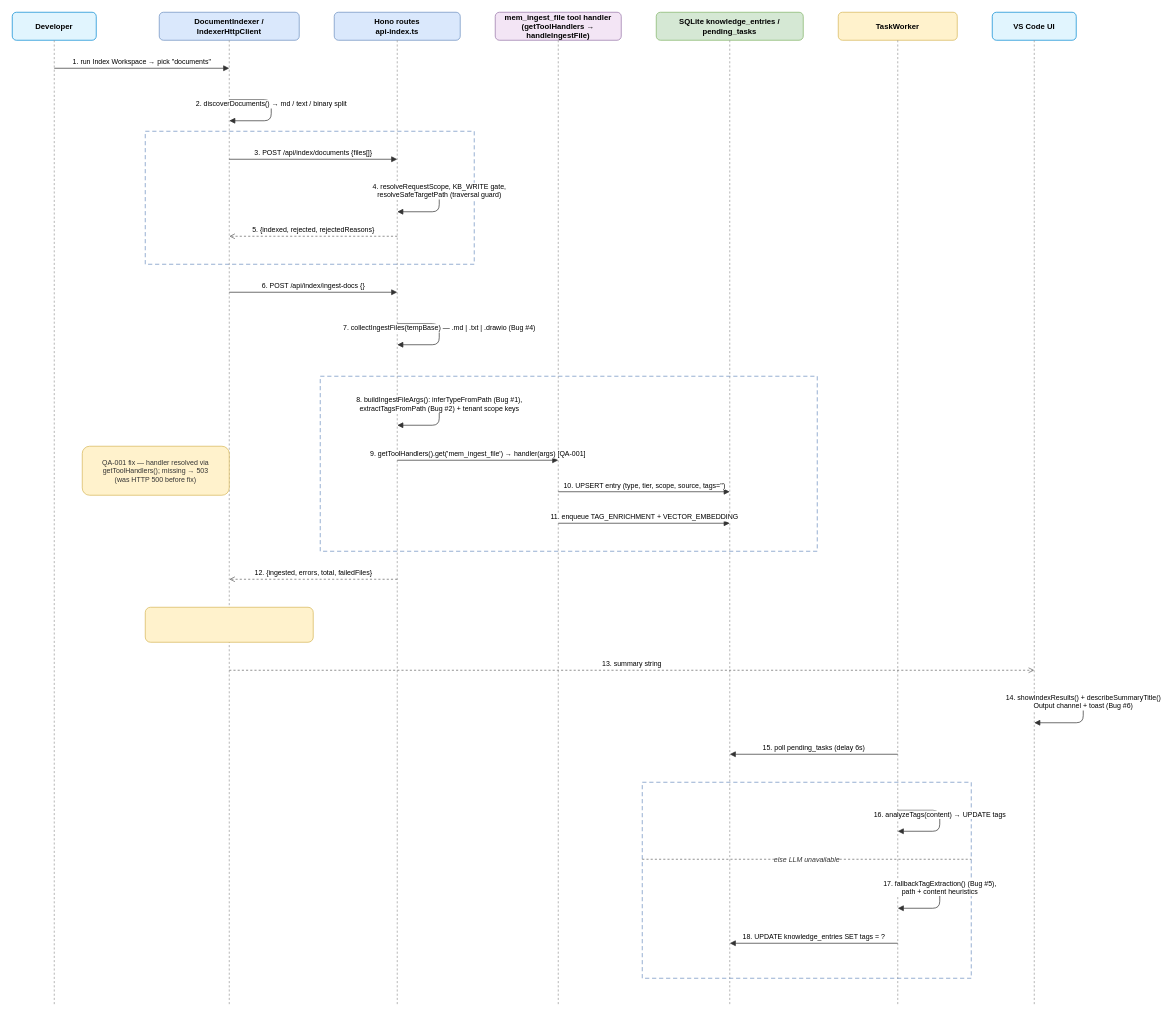
Some shapes in this 1173 by 1019 pixel diagram are drawn without their labels. The shapes that lost their labels are listed below. From the top down, each one's centre as x and y in pixels, then its label:
(309,197): loop every 20 files (200 ms pause)
(568,463): loop each file
(229,624): Bug #3 — JSON.parse, log "KB ingest: n/total"
(806,880): alt tagAnalyzer available
